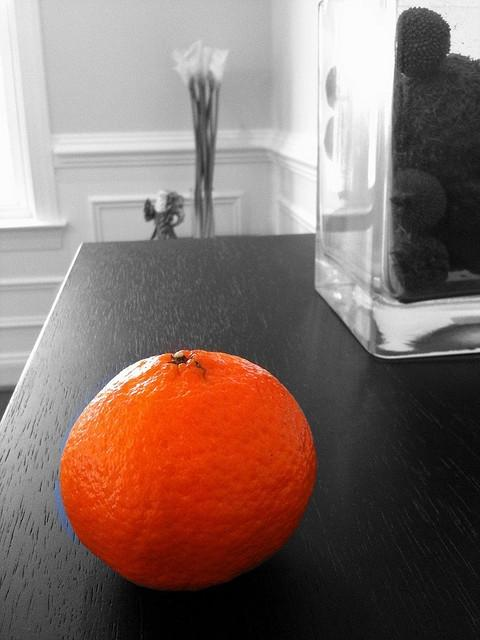orange: (60, 349, 316, 592)
